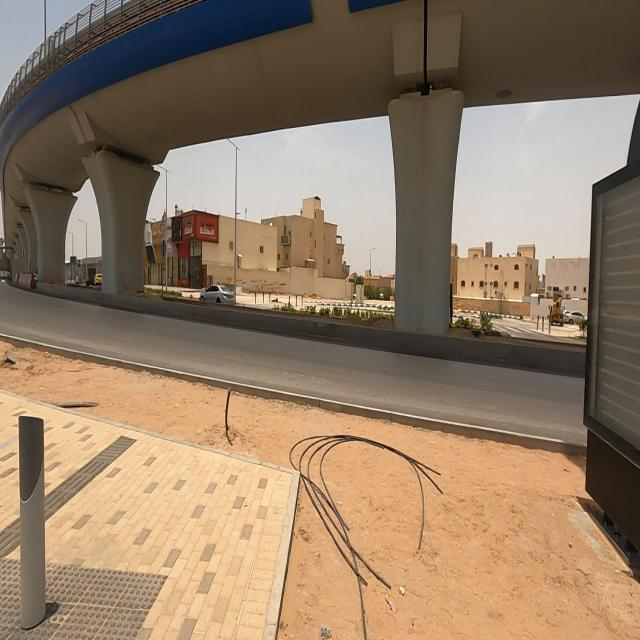debris: (227, 333, 452, 640)
